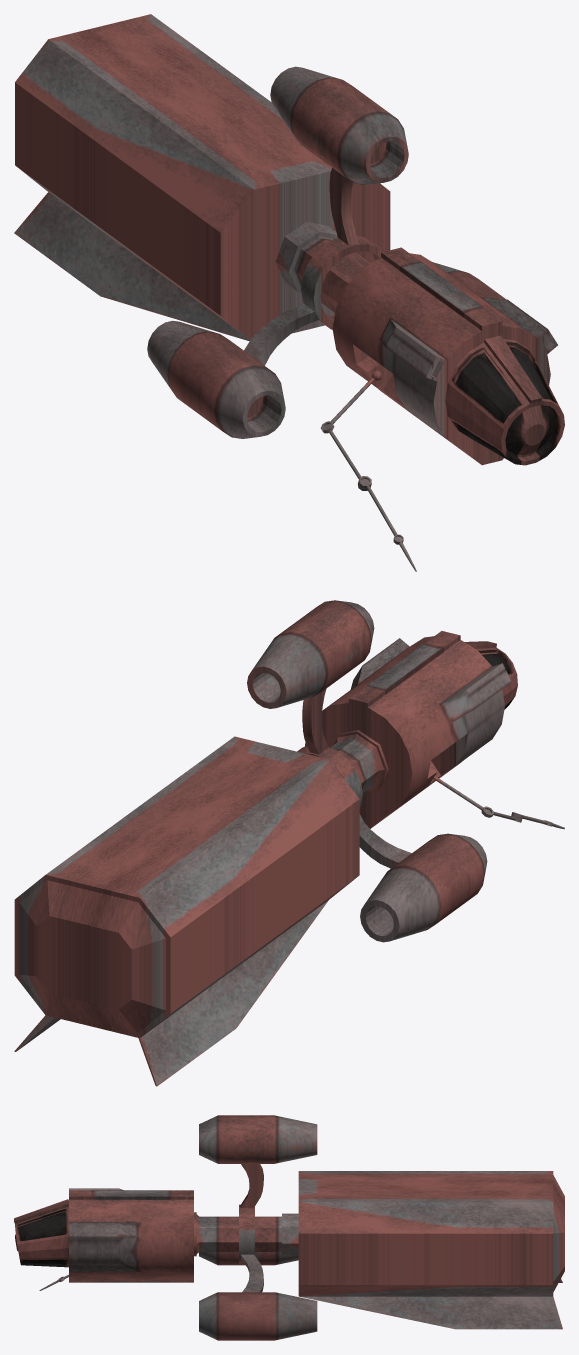
Rendered from mining team 2.FBX.
3 renders of one model, top to bottom at view 1: azimuth 30°, elevation 25°; view 2: azimuth 150°, elevation 25°; view 3: azimuth 270°, elevation 25°, orthographic. The views are drawn at different scales.
Parts seen in each view (by area): view 1: mining:Cylinder005; view 2: mining:Cylinder005; view 3: mining:Cylinder005.
Part boxes in pixels (left/top/right/bottom): mining:Cylinder005: left=14, top=14, right=564, bottom=571; mining:Cylinder005: left=14, top=600, right=564, bottom=1086; mining:Cylinder005: left=14, top=1115, right=564, bottom=1340.
Size of the model in its own units: 66.79 by 66.14 by 162.
Materials: 1 (1 with a texture image).
